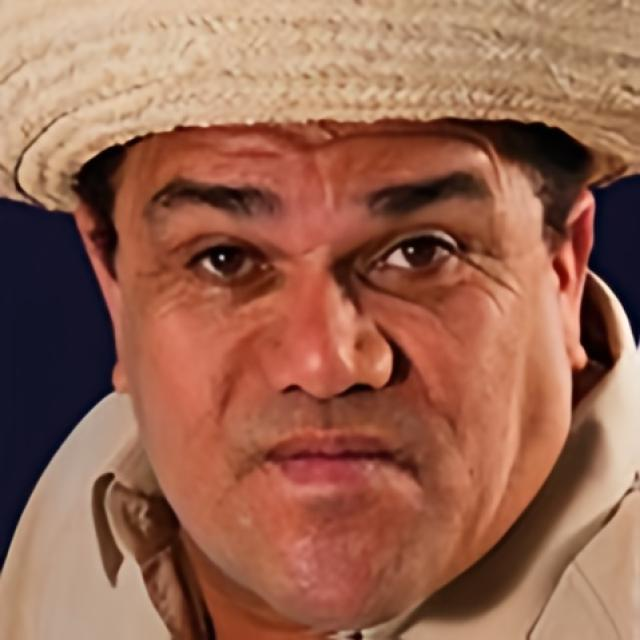disgust: (110, 116, 578, 630)
